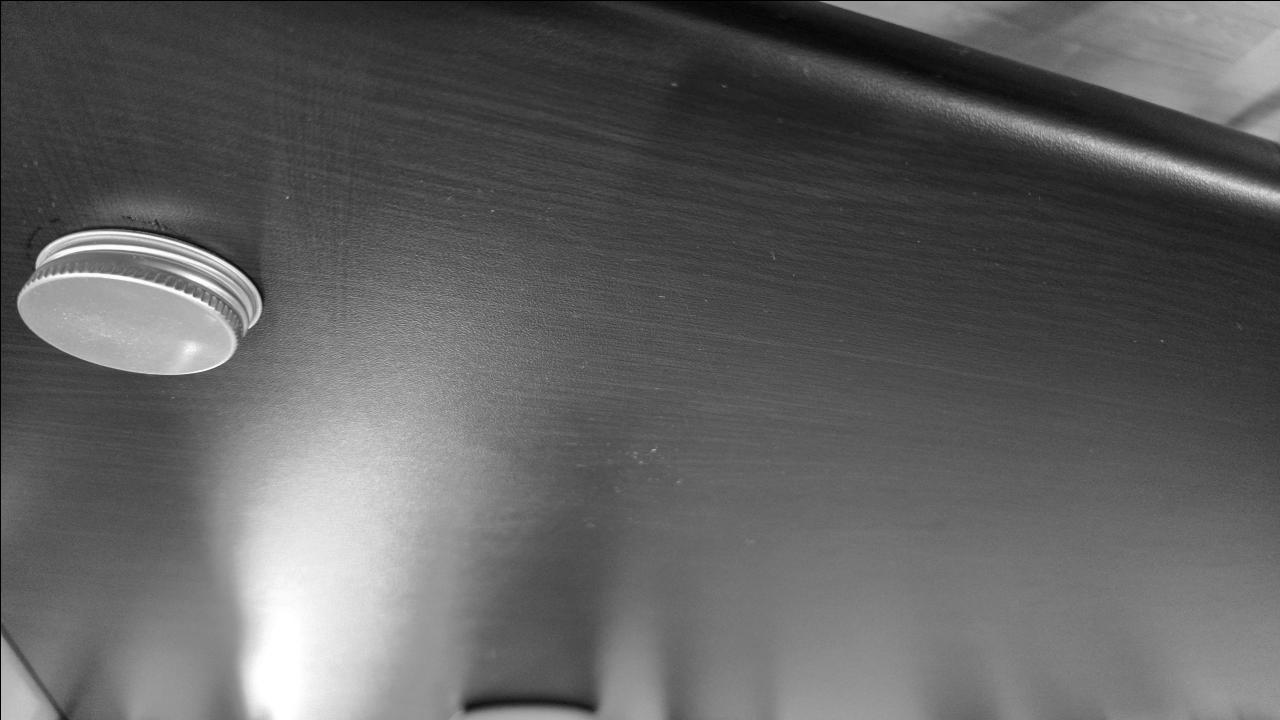bottle_cap: (18, 229, 262, 373)
